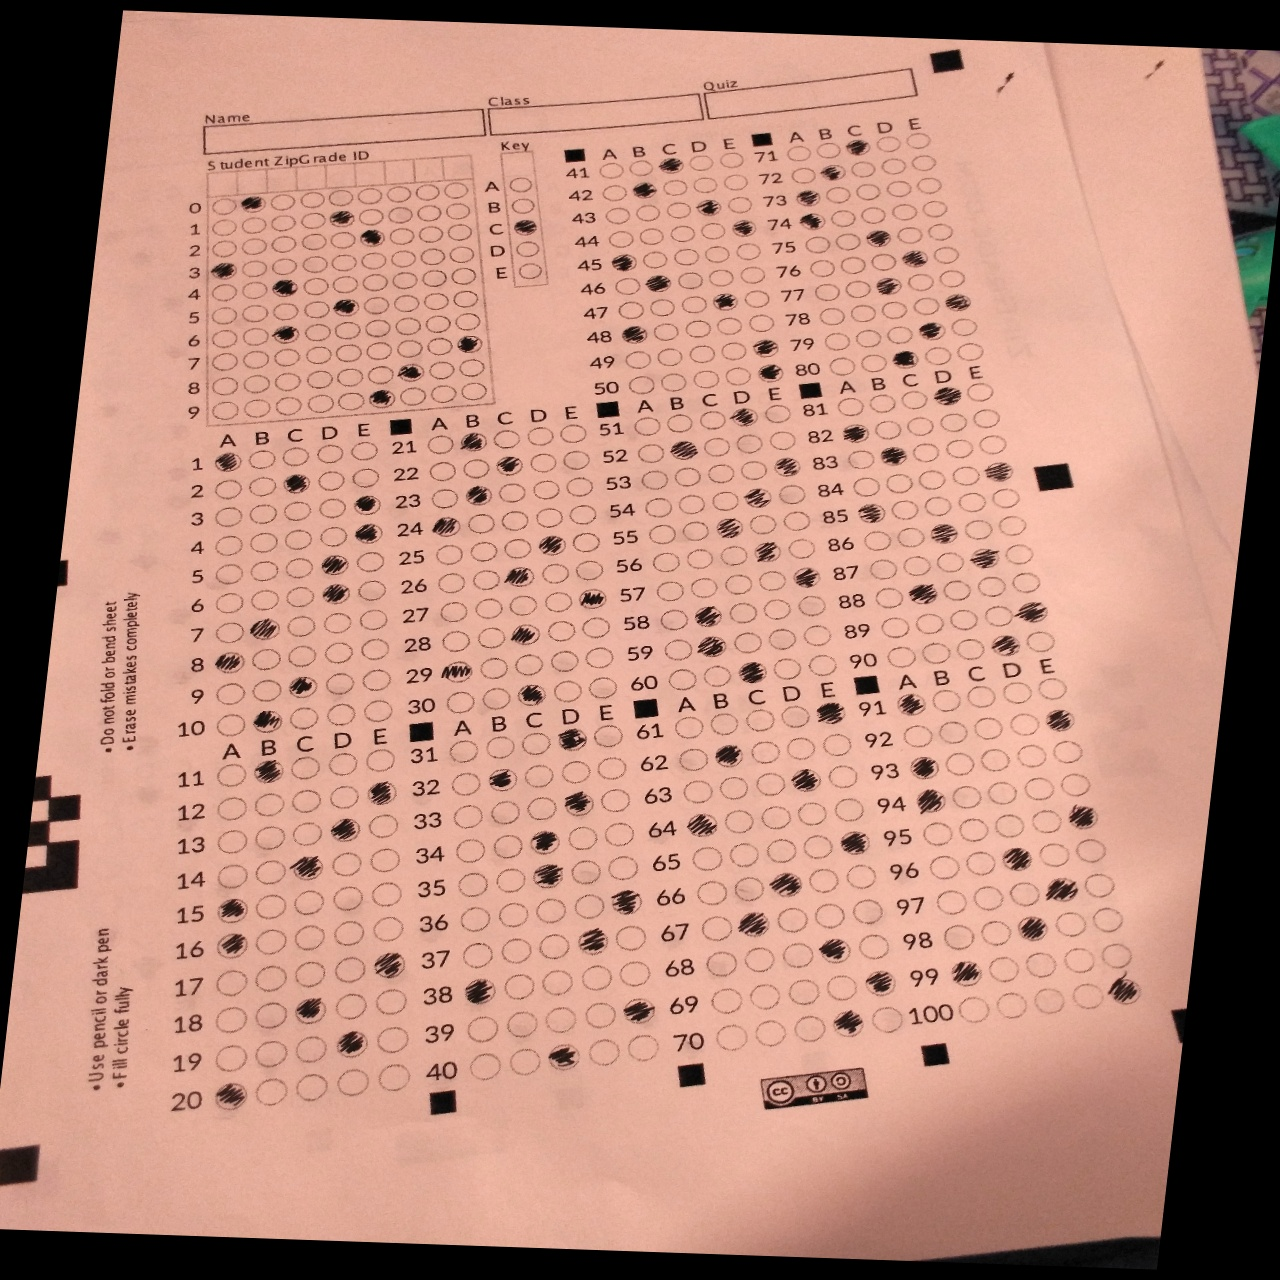not-c: (1058, 945, 1101, 978), (865, 1005, 908, 1036), (1085, 903, 1129, 934), (704, 983, 748, 1015), (742, 980, 785, 1012), (747, 1017, 790, 1049), (699, 949, 741, 981), (1098, 939, 1141, 971), (1028, 986, 1070, 1017), (949, 995, 992, 1027), (779, 976, 823, 1007), (985, 954, 1028, 985), (706, 1022, 749, 1053), (565, 856, 607, 886), (535, 932, 577, 962), (456, 939, 498, 969), (622, 1032, 665, 1062), (288, 924, 331, 954), (212, 967, 254, 998), (821, 971, 863, 1001), (939, 922, 981, 953), (1064, 981, 1107, 1012), (1032, 674, 1074, 704), (788, 1014, 829, 1044), (520, 794, 561, 824), (520, 763, 561, 794), (495, 937, 536, 967), (332, 1068, 373, 1098), (372, 987, 413, 1017), (581, 1000, 622, 1030), (251, 892, 292, 922), (1017, 949, 1058, 980), (778, 939, 819, 969), (755, 802, 796, 832), (772, 904, 813, 934), (855, 931, 896, 961), (488, 832, 530, 862), (373, 1063, 415, 1092), (292, 1073, 334, 1102), (327, 990, 369, 1020), (328, 920, 370, 949), (326, 884, 368, 913), (540, 1005, 583, 1034), (988, 990, 1030, 1020), (803, 866, 845, 896), (797, 833, 839, 863), (847, 897, 890, 926), (455, 905, 495, 935), (253, 999, 293, 1029), (613, 924, 653, 954), (367, 879, 408, 908), (595, 787, 636, 816), (530, 896, 571, 925), (568, 891, 610, 920), (561, 824, 602, 853), (495, 900, 536, 930), (489, 866, 530, 896), (504, 1047, 545, 1076), (291, 1036, 332, 1065), (329, 954, 370, 983), (370, 1024, 411, 1054), (617, 960, 658, 989), (583, 1036, 624, 1065), (287, 888, 328, 918), (1051, 911, 1092, 940), (829, 794, 870, 823), (602, 853, 645, 881), (1034, 840, 1076, 869), (683, 845, 726, 873), (986, 812, 1028, 840), (958, 847, 1000, 876), (954, 817, 996, 845), (918, 852, 960, 880), (917, 821, 959, 849), (930, 888, 972, 917), (601, 818, 641, 847), (537, 968, 577, 998), (467, 1051, 506, 1081), (463, 1013, 503, 1042), (252, 1039, 292, 1068), (722, 839, 762, 869), (761, 835, 801, 864), (794, 797, 833, 826), (499, 972, 540, 1000), (502, 1010, 543, 1039), (248, 964, 290, 992), (291, 960, 332, 988), (210, 1044, 251, 1073), (252, 1078, 293, 1107), (365, 915, 406, 944), (576, 964, 617, 992), (719, 806, 760, 835), (808, 901, 849, 930), (840, 862, 881, 890), (695, 913, 736, 941), (1081, 871, 1122, 899), (1071, 838, 1112, 866), (1027, 806, 1068, 835), (976, 919, 1017, 947), (968, 884, 1009, 912), (726, 874, 767, 903), (738, 945, 779, 973), (700, 949, 741, 978), (1003, 881, 1046, 908), (251, 928, 291, 956), (692, 879, 731, 907), (211, 1005, 252, 1032), (801, 622, 839, 651), (556, 760, 595, 787), (365, 813, 406, 839), (248, 791, 290, 817), (486, 799, 527, 825), (782, 736, 821, 763), (983, 776, 1022, 803), (679, 778, 717, 805), (686, 576, 724, 602), (652, 606, 690, 633), (911, 610, 949, 636), (951, 636, 989, 663), (883, 645, 921, 672), (779, 508, 818, 535), (772, 479, 811, 506), (286, 755, 326, 781), (445, 738, 485, 764), (287, 787, 327, 812), (592, 724, 632, 750), (481, 734, 520, 760), (447, 770, 486, 796), (1007, 712, 1044, 738), (750, 771, 788, 798), (747, 738, 784, 765), (940, 750, 978, 777), (824, 763, 862, 790), (935, 719, 973, 745), (969, 713, 1007, 740), (964, 683, 1001, 710), (1013, 742, 1050, 769), (999, 679, 1036, 706), (1057, 770, 1095, 797), (687, 577, 724, 604), (792, 594, 830, 621), (806, 651, 844, 678), (729, 629, 767, 656), (762, 626, 799, 653), (1023, 627, 1061, 654), (942, 607, 980, 634), (877, 612, 914, 639), (783, 535, 821, 561), (670, 660, 708, 687), (212, 829, 251, 855), (287, 822, 326, 847), (215, 795, 253, 821), (325, 783, 363, 809), (455, 871, 493, 897), (452, 837, 491, 863), (704, 712, 743, 737), (252, 860, 292, 885), (215, 864, 254, 888), (778, 704, 815, 731), (821, 731, 857, 758), (900, 724, 937, 751), (948, 784, 985, 811), (670, 714, 707, 741), (675, 745, 712, 772), (658, 636, 694, 663), (771, 656, 808, 683), (1000, 542, 1036, 568), (252, 824, 290, 850), (593, 755, 631, 781), (742, 709, 779, 735), (928, 687, 966, 713), (1021, 775, 1058, 801), (1049, 738, 1087, 764), (713, 775, 750, 801), (919, 640, 956, 666), (706, 486, 743, 512), (327, 852, 366, 877), (519, 731, 558, 756), (976, 745, 1013, 771), (652, 577, 688, 602), (979, 604, 1015, 629), (702, 660, 738, 686), (648, 549, 685, 574), (669, 463, 706, 489), (719, 570, 755, 595), (715, 542, 751, 567), (493, 481, 531, 505), (571, 557, 608, 581), (563, 476, 600, 501), (549, 678, 586, 702), (542, 619, 579, 644), (320, 639, 358, 663), (358, 636, 395, 661), (368, 847, 406, 872), (520, 764, 558, 789), (450, 805, 488, 830), (1007, 570, 1042, 595), (673, 490, 708, 516), (760, 597, 795, 622), (755, 568, 790, 594), (565, 502, 601, 526), (498, 509, 535, 533), (498, 537, 535, 561), (355, 550, 392, 574), (477, 685, 513, 709), (471, 597, 508, 621), (319, 611, 355, 635), (359, 699, 395, 723), (586, 675, 622, 700), (287, 706, 324, 730), (284, 645, 320, 669), (282, 585, 319, 610), (213, 714, 250, 738), (209, 592, 245, 617), (994, 515, 1030, 539), (676, 518, 713, 543), (702, 462, 738, 486), (736, 458, 772, 483), (743, 512, 779, 537), (545, 649, 583, 673), (476, 655, 513, 679), (360, 668, 397, 692), (282, 614, 320, 638), (248, 647, 286, 670), (583, 645, 618, 669), (540, 591, 576, 615), (324, 672, 359, 696), (365, 748, 400, 772), (248, 678, 284, 702), (726, 600, 761, 625), (355, 579, 392, 602), (568, 531, 605, 554), (532, 505, 568, 529), (529, 478, 565, 502), (468, 568, 504, 592), (442, 692, 478, 715), (441, 627, 477, 651), (436, 600, 472, 624), (579, 615, 615, 639), (512, 654, 549, 678), (508, 593, 544, 617), (474, 627, 510, 651), (324, 703, 360, 727), (355, 608, 392, 632), (215, 763, 251, 787), (325, 751, 361, 775), (212, 681, 248, 704), (212, 621, 248, 645), (632, 441, 666, 465), (915, 467, 949, 491), (867, 557, 901, 581), (846, 447, 880, 471), (905, 414, 939, 438), (897, 387, 931, 411), (632, 414, 666, 438), (537, 561, 572, 585), (467, 539, 502, 563), (248, 588, 284, 612), (646, 523, 679, 547), (941, 578, 974, 602), (524, 425, 558, 449), (435, 572, 469, 595), (425, 459, 459, 483), (888, 497, 922, 520), (862, 529, 896, 552), (961, 518, 995, 542), (894, 525, 928, 549), (899, 554, 933, 578), (975, 572, 1009, 595), (733, 431, 767, 455), (969, 407, 1003, 430), (962, 380, 996, 403), (867, 392, 901, 415), (697, 436, 731, 459), (663, 413, 697, 436), (685, 546, 716, 571), (874, 585, 906, 610), (461, 457, 493, 481), (490, 428, 523, 451), (430, 486, 463, 510), (849, 475, 881, 498), (644, 496, 676, 519), (638, 469, 670, 492), (922, 493, 955, 517), (990, 486, 1023, 510), (937, 411, 969, 435), (765, 429, 798, 452), (955, 490, 988, 513), (526, 452, 560, 475), (467, 512, 501, 535), (558, 422, 592, 444), (431, 543, 465, 565), (949, 464, 983, 486), (942, 437, 976, 459), (762, 403, 796, 425), (835, 396, 869, 418), (935, 549, 967, 572), (908, 441, 940, 464), (350, 468, 383, 490), (424, 433, 457, 455), (560, 450, 593, 472), (883, 474, 915, 496), (978, 433, 1010, 455), (872, 418, 905, 441), (695, 410, 728, 433), (314, 443, 346, 465), (285, 557, 316, 579), (319, 525, 350, 547), (318, 497, 349, 519), (315, 470, 346, 492), (213, 478, 244, 501), (282, 527, 314, 549), (248, 560, 280, 581), (247, 532, 279, 553), (247, 476, 279, 497), (213, 564, 245, 585), (665, 199, 696, 220), (612, 275, 644, 297), (273, 394, 302, 416), (506, 173, 537, 195), (397, 384, 428, 406), (239, 302, 270, 324), (333, 343, 363, 365), (348, 440, 379, 461), (248, 503, 279, 524), (215, 535, 245, 556), (689, 173, 720, 195), (803, 234, 833, 256), (622, 350, 653, 372), (849, 159, 879, 181), (828, 207, 858, 229), (515, 261, 546, 281), (392, 316, 423, 336), (418, 290, 450, 309), (414, 203, 445, 223), (237, 279, 268, 299), (209, 307, 240, 327), (209, 284, 240, 304), (210, 218, 241, 238), (304, 393, 335, 413), (280, 501, 312, 520), (212, 508, 244, 527), (731, 241, 763, 261), (625, 159, 656, 179), (687, 345, 719, 365), (713, 316, 744, 336), (704, 268, 736, 288), (816, 307, 847, 327), (605, 230, 636, 250), (821, 331, 852, 350), (876, 155, 907, 175), (930, 245, 961, 265), (821, 185, 852, 205), (386, 206, 417, 226), (445, 200, 475, 222), (362, 316, 392, 338), (207, 197, 238, 217), (297, 191, 327, 211), (325, 190, 355, 210), (354, 186, 384, 206), (383, 184, 414, 204), (413, 184, 443, 204), (441, 181, 471, 200), (428, 384, 458, 404), (427, 359, 457, 379), (365, 340, 395, 360), (362, 295, 393, 315), (361, 273, 392, 293), (355, 207, 386, 227), (395, 339, 425, 359), (392, 294, 422, 314), (390, 270, 421, 290), (386, 227, 416, 247), (388, 248, 418, 268), (418, 268, 449, 288), (418, 246, 449, 266), (415, 225, 445, 245), (452, 312, 483, 332), (449, 266, 479, 286), (445, 245, 476, 265), (239, 215, 270, 234), (211, 401, 241, 421), (209, 376, 239, 396), (209, 329, 239, 349), (207, 239, 238, 259), (271, 348, 301, 368), (271, 301, 301, 321), (268, 257, 299, 277), (298, 233, 328, 253), (268, 234, 299, 254), (299, 212, 329, 232), (240, 399, 271, 418), (241, 374, 272, 394), (240, 326, 271, 346), (304, 369, 334, 389), (336, 392, 367, 411), (334, 367, 365, 387), (301, 322, 332, 342), (333, 320, 363, 340), (298, 256, 328, 275), (246, 450, 277, 470), (758, 183, 789, 203), (595, 161, 626, 181), (745, 313, 776, 333), (742, 290, 772, 309), (724, 195, 755, 215), (659, 372, 689, 392), (653, 346, 683, 366), (652, 321, 682, 341), (648, 297, 679, 316), (632, 204, 662, 224), (679, 297, 709, 316), (674, 271, 704, 291), (670, 248, 701, 268), (667, 224, 697, 244), (661, 178, 692, 198), (719, 339, 749, 359), (723, 366, 754, 386), (702, 244, 733, 264), (699, 222, 729, 241), (904, 132, 934, 152), (806, 259, 837, 279), (790, 165, 821, 185), (783, 143, 813, 163), (627, 376, 658, 396), (953, 341, 983, 361), (869, 251, 899, 271), (852, 181, 883, 200), (906, 272, 937, 292), (888, 202, 919, 222), (884, 178, 914, 198), (913, 175, 944, 195), (847, 302, 878, 322), (844, 278, 874, 298), (838, 254, 869, 274), (813, 142, 844, 162), (885, 325, 915, 345), (304, 345, 334, 365), (273, 372, 302, 392), (267, 192, 297, 212), (512, 240, 542, 260), (508, 196, 537, 216), (458, 381, 488, 401), (366, 365, 395, 384), (358, 251, 387, 271), (457, 358, 486, 377), (424, 338, 454, 358), (423, 314, 452, 334), (452, 290, 482, 309), (445, 222, 475, 241), (331, 275, 360, 295), (328, 253, 358, 273), (328, 231, 358, 251), (239, 238, 268, 258), (210, 352, 239, 372), (241, 349, 271, 369), (301, 300, 331, 320), (302, 277, 332, 297), (281, 447, 311, 467), (685, 154, 714, 173), (738, 265, 768, 285), (720, 171, 749, 191), (716, 151, 745, 171), (644, 250, 673, 270), (682, 319, 712, 339), (812, 282, 842, 302), (615, 300, 645, 320), (601, 206, 631, 226), (600, 182, 629, 202), (859, 353, 888, 373), (920, 345, 949, 365), (828, 355, 857, 375), (857, 204, 886, 224), (912, 297, 941, 316), (894, 225, 924, 245), (874, 136, 904, 156), (949, 316, 979, 336), (937, 268, 966, 288), (925, 222, 954, 241), (920, 199, 949, 219), (908, 154, 938, 173), (855, 327, 884, 347), (833, 231, 863, 251), (879, 300, 908, 320), (240, 259, 268, 279), (268, 215, 297, 234), (692, 369, 720, 389), (636, 227, 666, 246)
taken-c: (212, 1081, 253, 1112), (1041, 704, 1082, 736), (288, 995, 331, 1026), (765, 870, 808, 900), (835, 828, 877, 858), (996, 844, 1039, 874), (1041, 874, 1083, 905), (944, 958, 986, 988), (1064, 803, 1107, 833), (544, 1042, 585, 1073), (813, 699, 855, 729), (332, 1030, 374, 1060), (1105, 976, 1148, 1006), (816, 937, 858, 966), (1012, 915, 1054, 945), (908, 785, 951, 815), (828, 1009, 869, 1039), (862, 968, 903, 998), (901, 753, 942, 782), (888, 690, 930, 720), (787, 765, 828, 795), (363, 779, 406, 808), (618, 999, 660, 1027), (212, 897, 254, 925), (325, 816, 367, 844), (573, 927, 614, 955), (530, 863, 571, 891), (211, 931, 252, 959), (985, 633, 1026, 661), (734, 911, 774, 939), (372, 951, 411, 979), (459, 978, 501, 1005), (606, 888, 647, 915), (290, 855, 329, 881), (527, 828, 564, 857), (560, 790, 599, 817), (904, 581, 944, 607), (1014, 599, 1051, 626), (874, 442, 912, 469), (967, 544, 1003, 571), (982, 458, 1019, 484), (927, 520, 964, 546), (250, 709, 287, 734), (210, 651, 247, 675), (554, 728, 591, 753), (440, 660, 476, 685), (735, 660, 771, 685), (484, 768, 520, 792), (788, 564, 824, 588), (250, 760, 287, 783), (942, 290, 976, 315), (508, 622, 543, 647), (515, 682, 550, 707), (930, 384, 965, 409), (914, 319, 949, 343), (286, 675, 322, 699), (712, 744, 748, 768), (855, 501, 888, 525), (685, 813, 720, 837), (461, 484, 495, 508), (248, 618, 282, 641), (319, 583, 353, 606), (535, 533, 568, 557), (694, 634, 728, 658), (692, 605, 726, 628), (888, 348, 922, 372), (741, 486, 776, 509), (839, 422, 872, 445), (457, 430, 491, 452), (319, 553, 353, 576), (350, 493, 384, 516), (212, 450, 246, 472), (504, 566, 538, 588), (429, 515, 463, 537), (576, 587, 610, 610), (713, 517, 747, 539), (794, 211, 829, 232), (790, 188, 825, 209), (353, 523, 386, 545), (817, 162, 850, 184), (280, 474, 314, 495), (872, 274, 904, 297), (493, 455, 526, 476), (710, 292, 743, 313), (751, 542, 784, 563), (863, 229, 896, 250), (897, 248, 930, 270), (844, 137, 874, 159), (367, 388, 399, 409), (756, 362, 788, 383), (727, 407, 760, 427), (750, 338, 783, 358), (326, 207, 356, 229), (236, 195, 267, 215), (619, 325, 651, 345), (207, 261, 239, 281), (358, 229, 389, 248), (668, 440, 700, 459), (644, 273, 674, 293), (692, 198, 722, 218), (608, 252, 639, 272), (629, 181, 660, 200), (396, 362, 427, 382), (455, 334, 485, 354), (270, 324, 300, 343), (331, 297, 361, 316), (270, 278, 300, 298), (508, 217, 538, 237), (729, 218, 760, 238), (772, 456, 803, 476), (656, 155, 686, 175)
